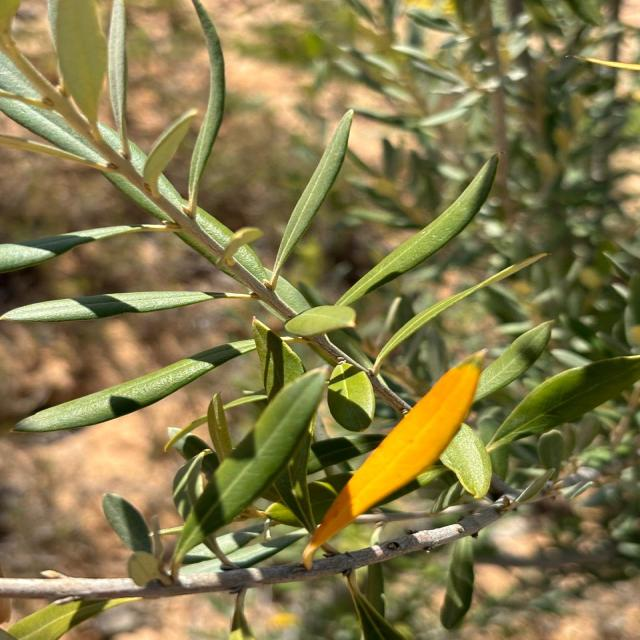Peacock Eye: (303, 350, 486, 568)
